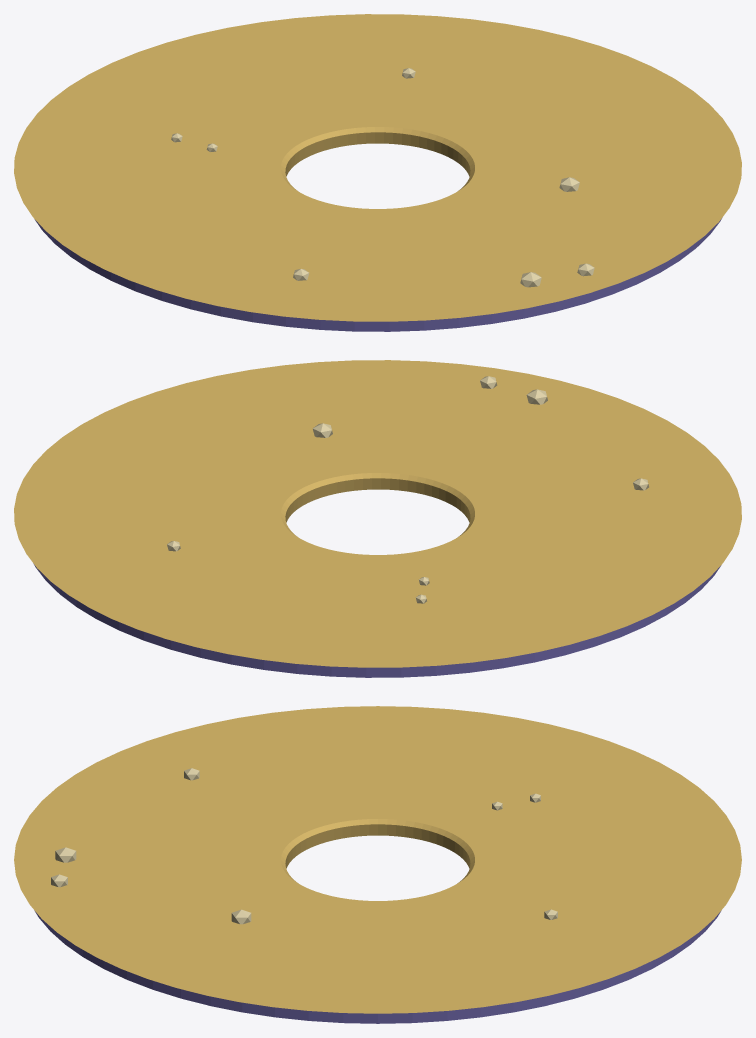
The model's file is goo_jar_deck_3@starlight.fbx.
3 renders of one model, top to bottom at view 1: azimuth 30°, elevation 25°; view 2: azimuth 150°, elevation 25°; view 3: azimuth 270°, elevation 25°, orthographic.
Visible parts, largest first — view 1: goo_jar_deck_3; view 2: goo_jar_deck_3; view 3: goo_jar_deck_3.
Part boxes in pixels (x1,y1,x2,y2): goo_jar_deck_3: (14, 14, 741, 331); goo_jar_deck_3: (14, 360, 741, 677); goo_jar_deck_3: (14, 706, 741, 1023).
Size of the model in its own units: 47.2 by 1.84 by 47.2.
